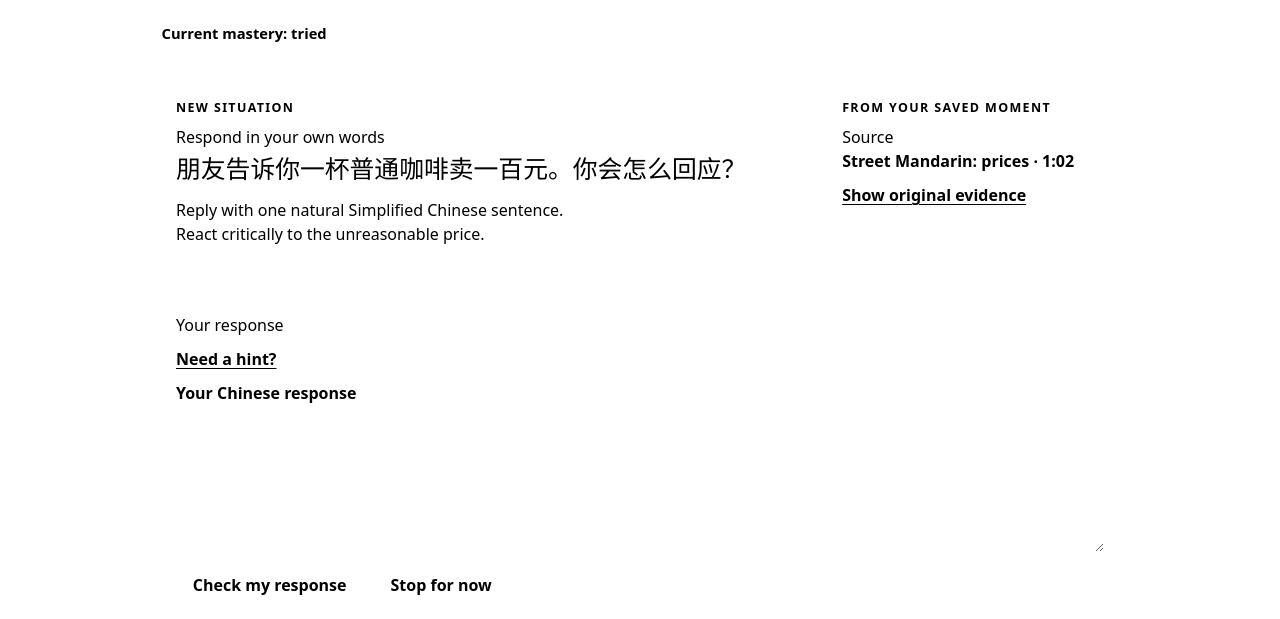
PracticeSession › adds a calm explanation after eight seconds without cancelling the request
In the text box labelled "Your Chinese response": (640, 484) [176,416,1104,552], type "这个价格太离谱了。"
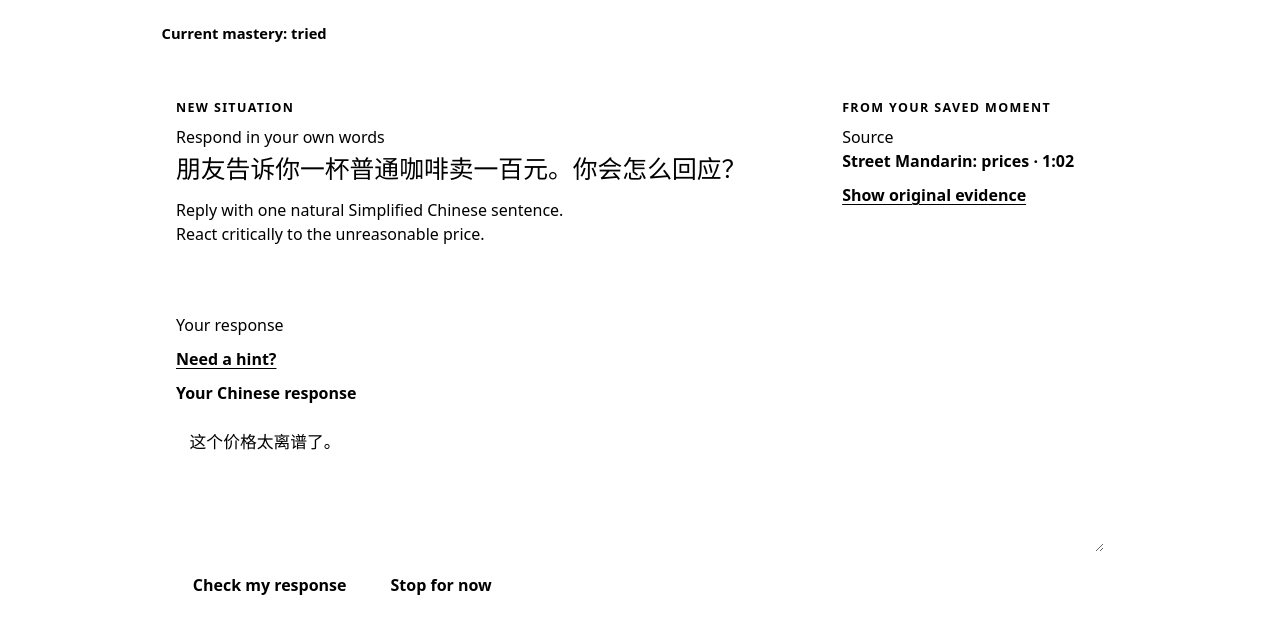
Click the button "Check my response": (270, 585) [176,562,363,608]
Wait 8000 ms
(page scrolled)
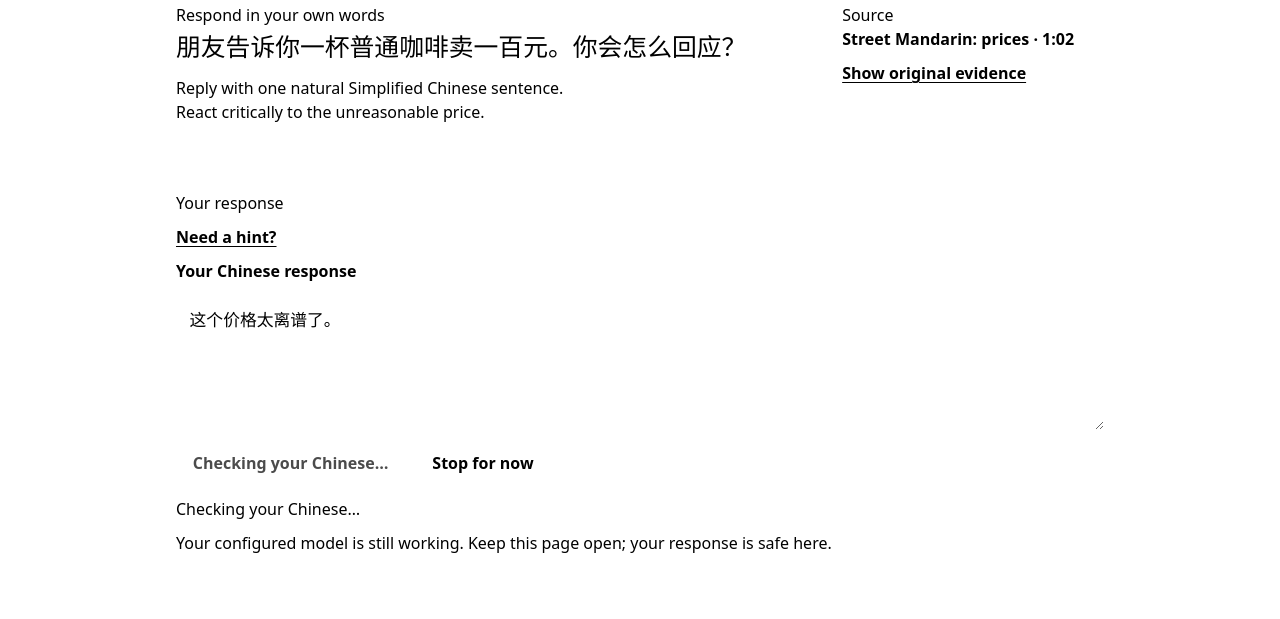
Expected: the message "Checking your Chinese…" is shown, [176,498,360,520]
Expected: the text "configured model is still working" is shown, [176,532,832,554]
